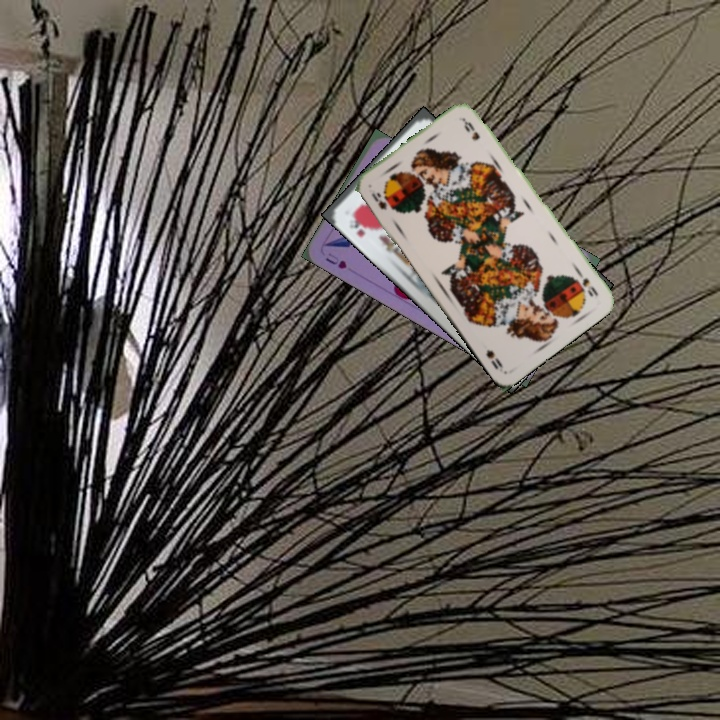HK: (345, 211, 369, 239)
HU: (321, 249, 349, 272)
SO: (572, 266, 601, 300), (367, 188, 390, 213)
